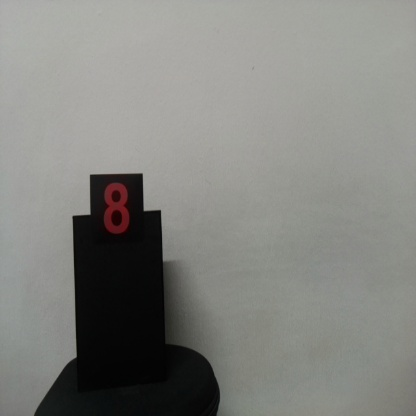id_8: (90, 175, 144, 251)
